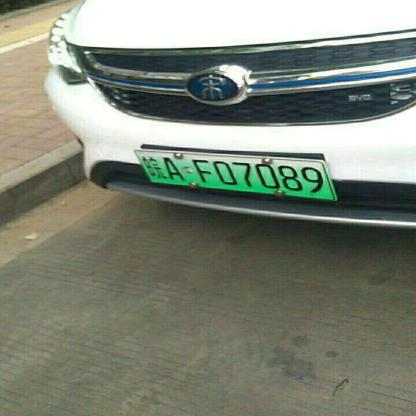lp: (136, 148, 337, 198)
